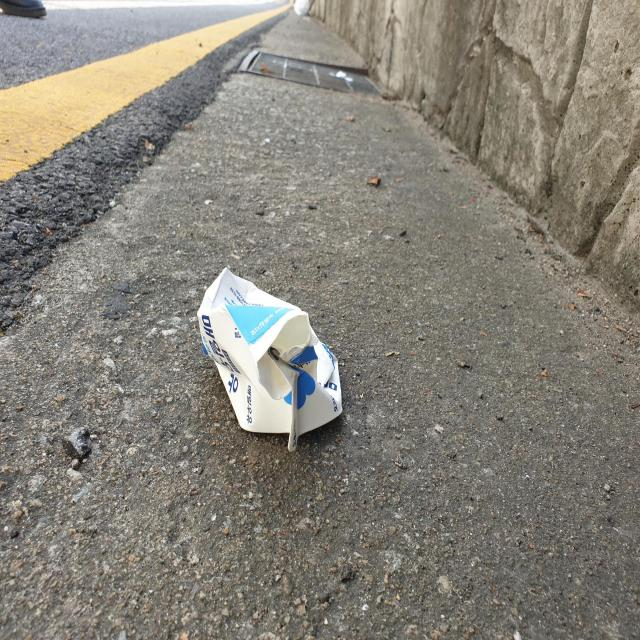paperpack: (197, 268, 342, 452)
